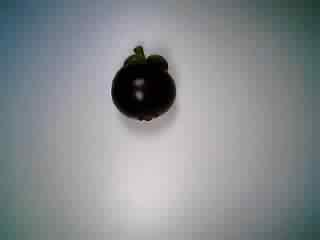mangosteen: (101, 43, 182, 123)
